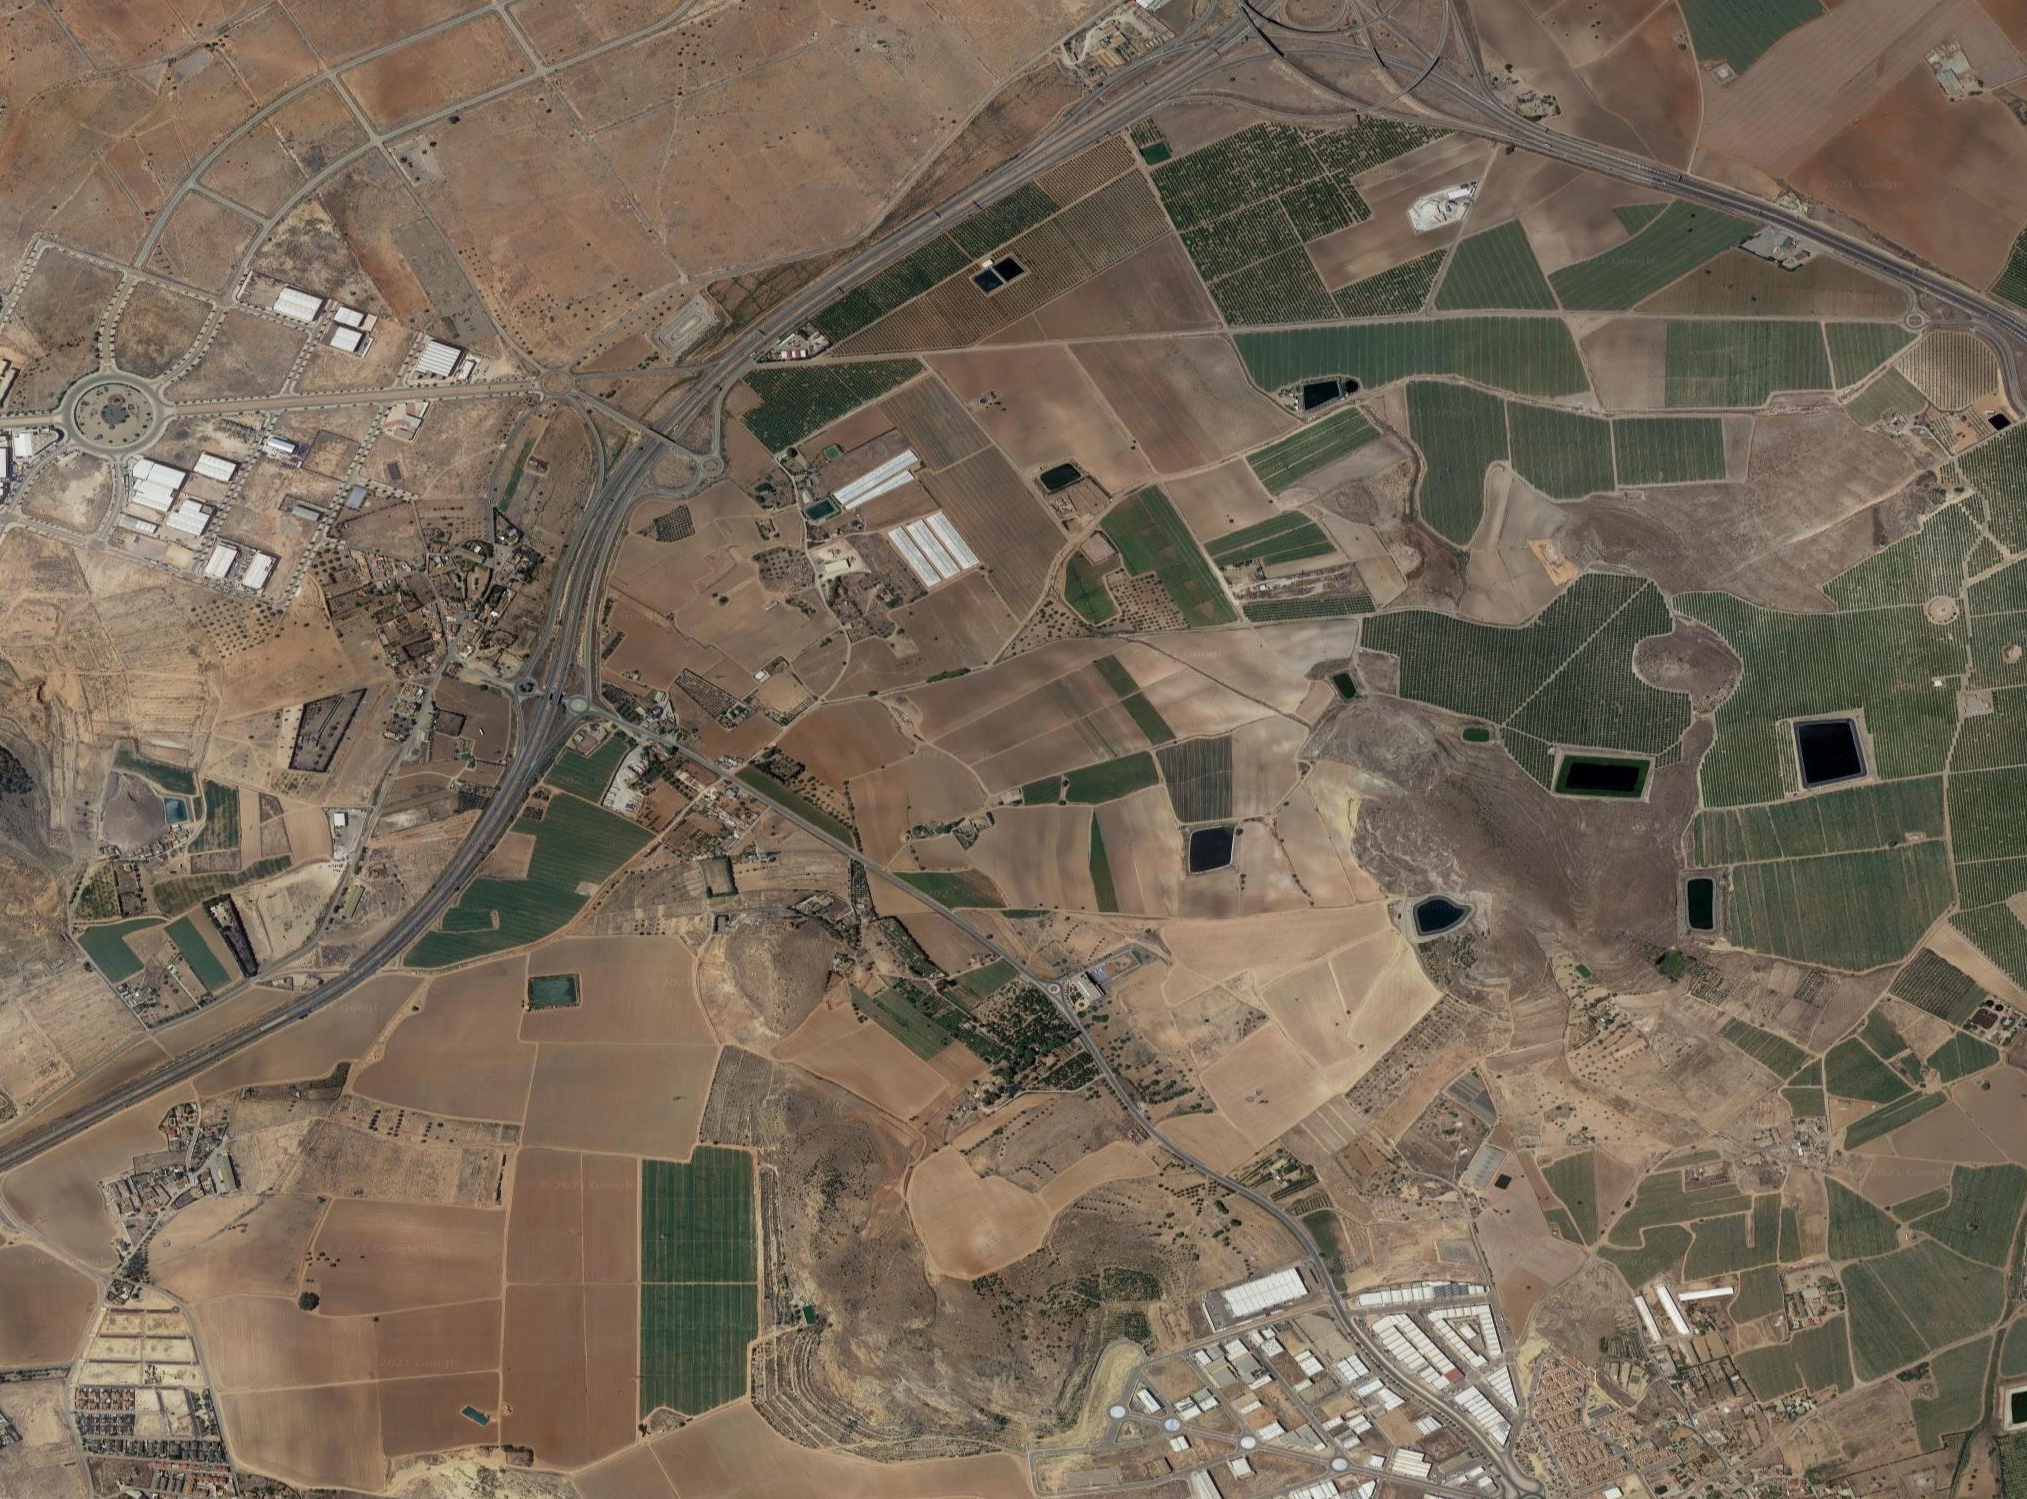bridge: (607, 403, 685, 455)
industrial: (131, 279, 499, 603), (1102, 1242, 1536, 1499)
motorway: (607, 266, 851, 479), (845, 102, 1098, 269), (220, 883, 444, 1057), (441, 652, 596, 886), (1824, 228, 2027, 405), (1095, 2, 1353, 139), (1353, 2, 1563, 153), (2, 1031, 222, 1171), (1563, 140, 1826, 235), (538, 469, 642, 657)
